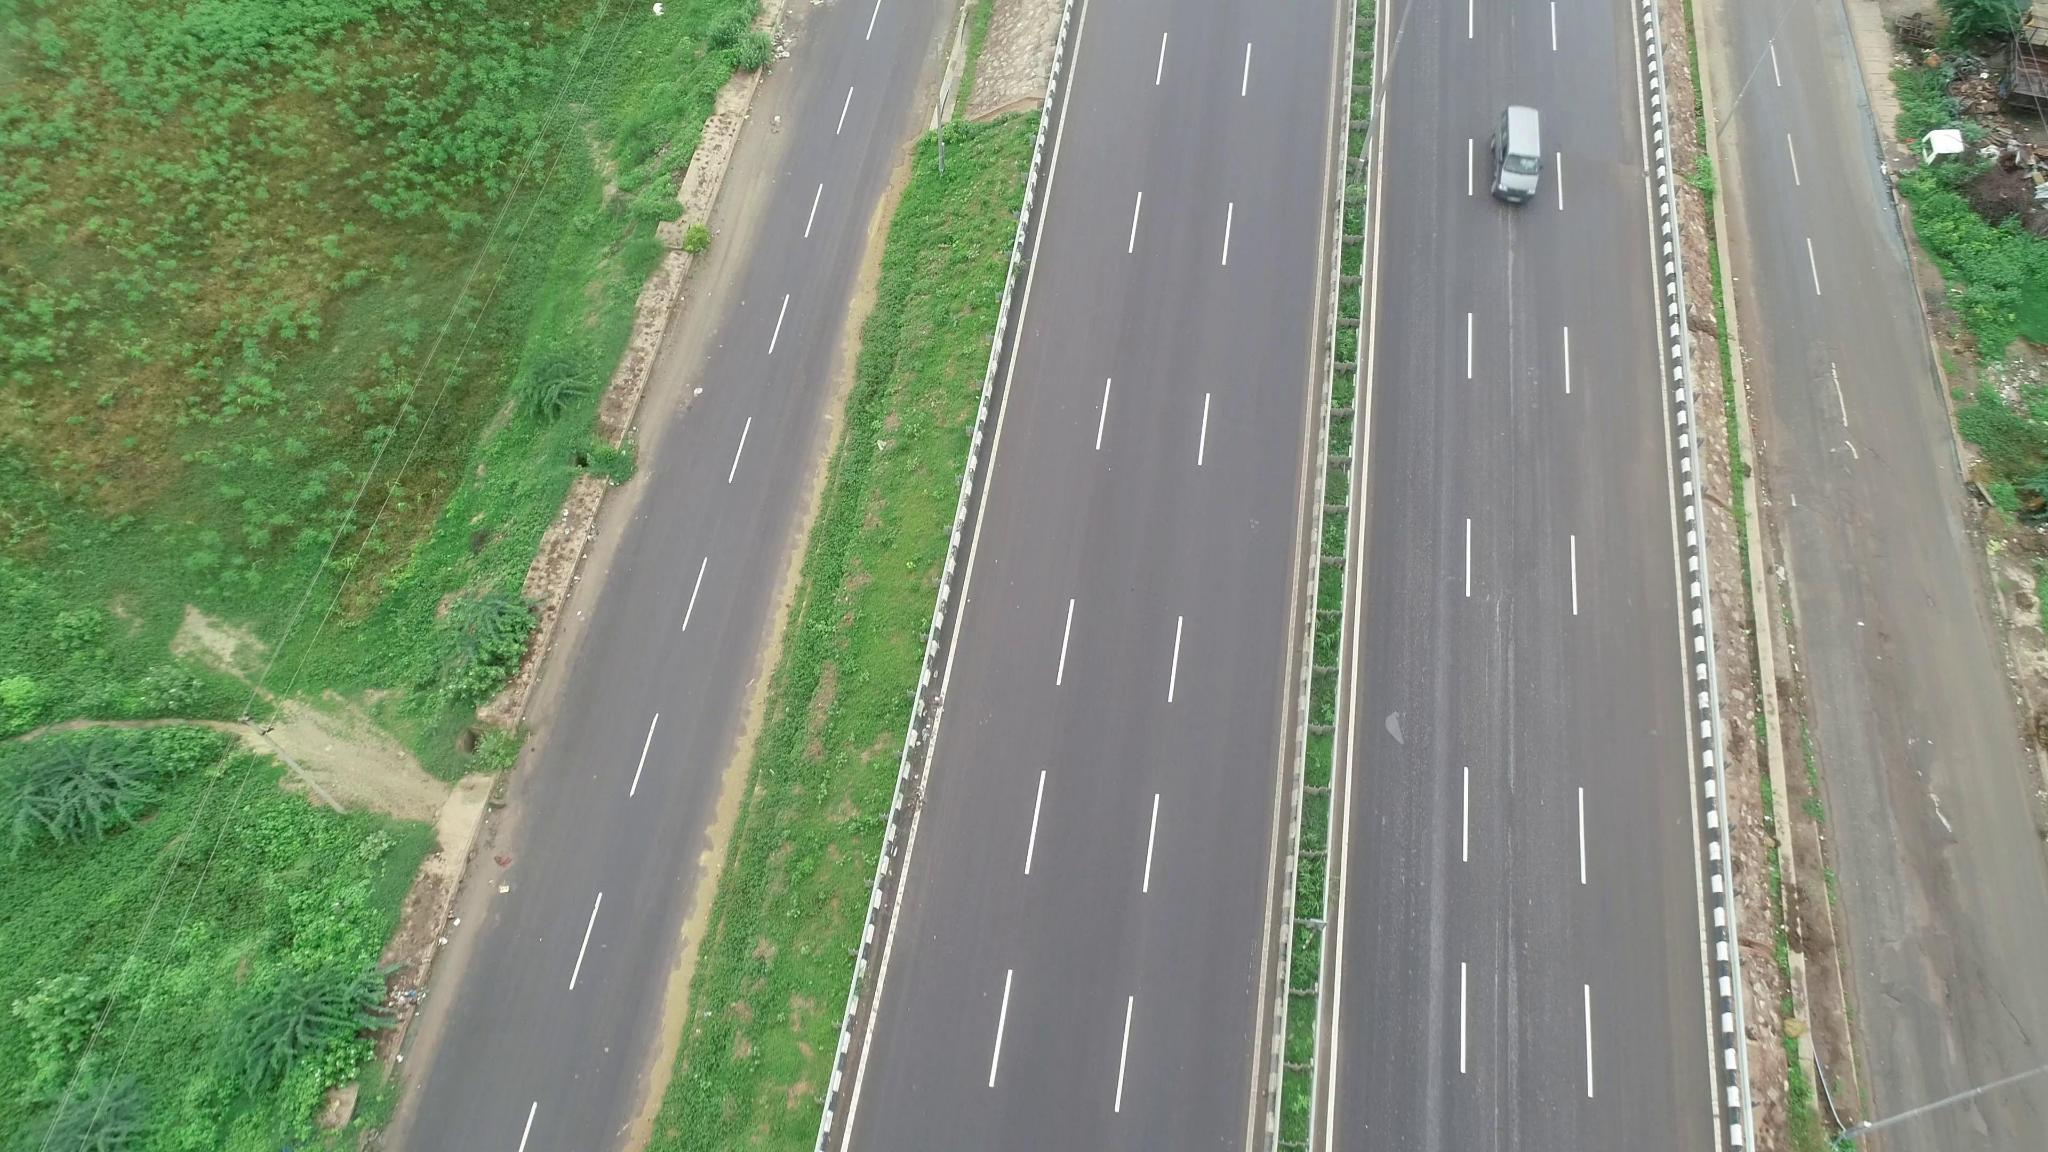Ravelling: (1491, 588, 1530, 1144), (1492, 214, 1533, 464)
